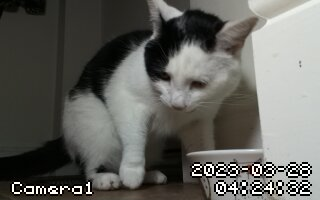bad: (42, 4, 256, 194)
